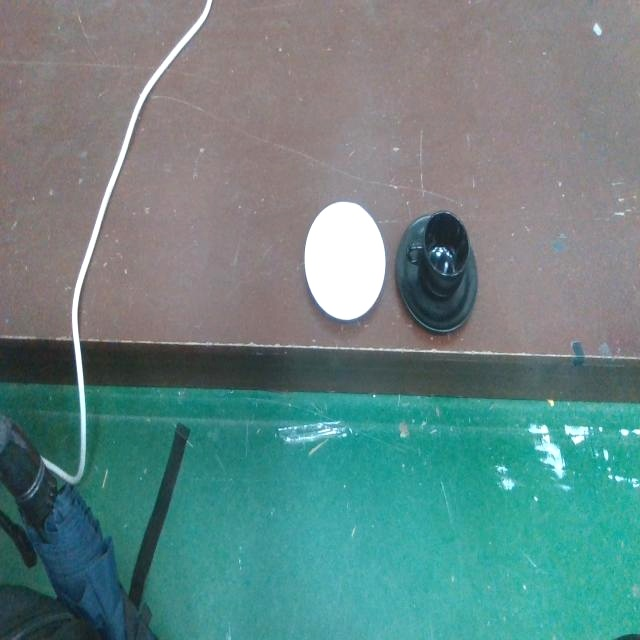black: (393, 208, 479, 337)
white: (303, 198, 387, 327)
